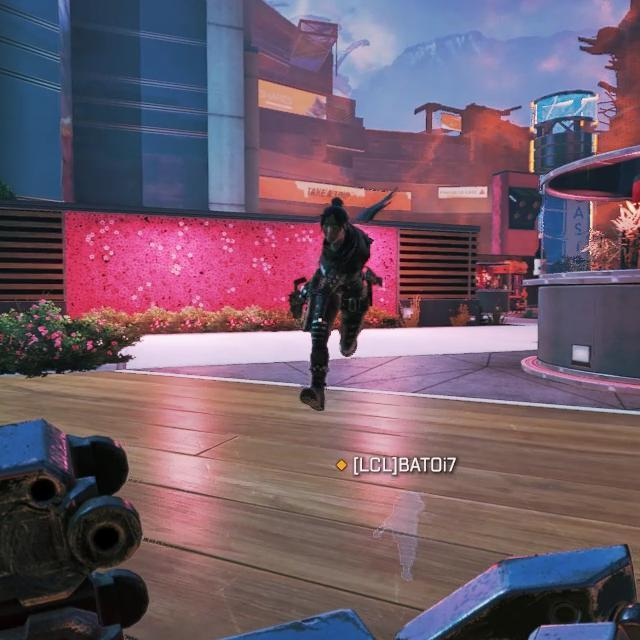avatar: (287, 193, 385, 413)
